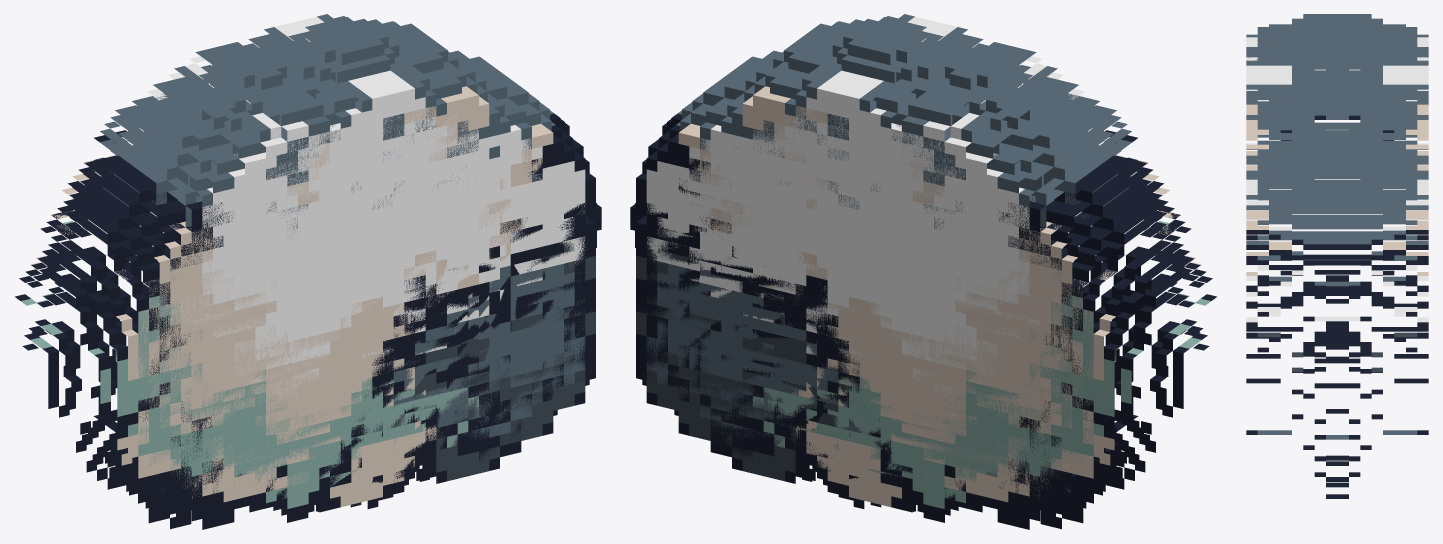
Rendered from ovelha_andando.glb.
3 views of the same model, side by side, from view 1: azimuth 30°, elevation 25°; view 2: azimuth 150°, elevation 25°; view 3: azimuth 270°, elevation 25° (orthographic). The views are drawn at different scales.
Parts seen in each view (by area): view 1: q0, q1, q2, q3; view 2: q0, q1, q2, q3; view 3: q1, q0, q2, q3.
Boxes of the visible parts, <box> form: q0: <box>31,42,585,523</box>; q1: <box>62,14,601,500</box>; q2: <box>40,54,595,515</box>; q3: <box>15,131,551,529</box>; q0: <box>646,42,1200,523</box>; q1: <box>630,14,1169,500</box>; q2: <box>636,54,1191,515</box>; q3: <box>678,131,1216,529</box>; q1: <box>1246,16,1428,498</box>; q0: <box>1246,31,1428,487</box>; q2: <box>1246,14,1428,481</box>; q3: <box>1246,64,1428,394</box>.
Size of the model in its own units: 52 by 42 by 16.
1 material, 1 textured.
